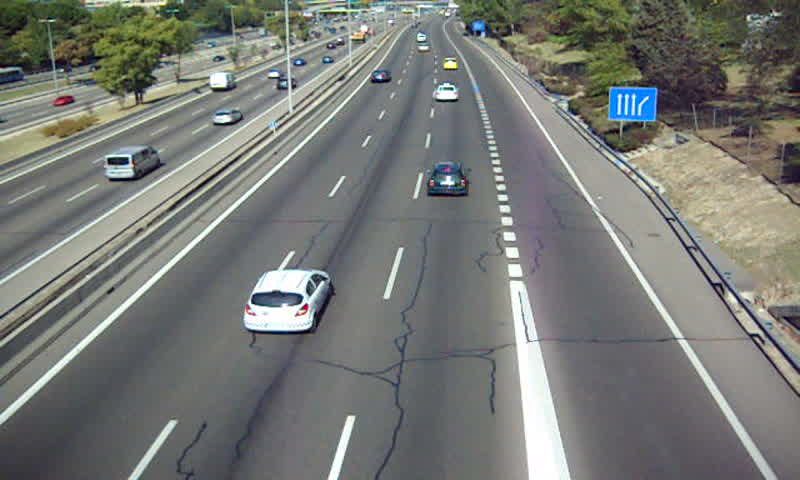car: (242, 268, 332, 332), (427, 163, 468, 195), (436, 84, 458, 103), (368, 71, 390, 84)
